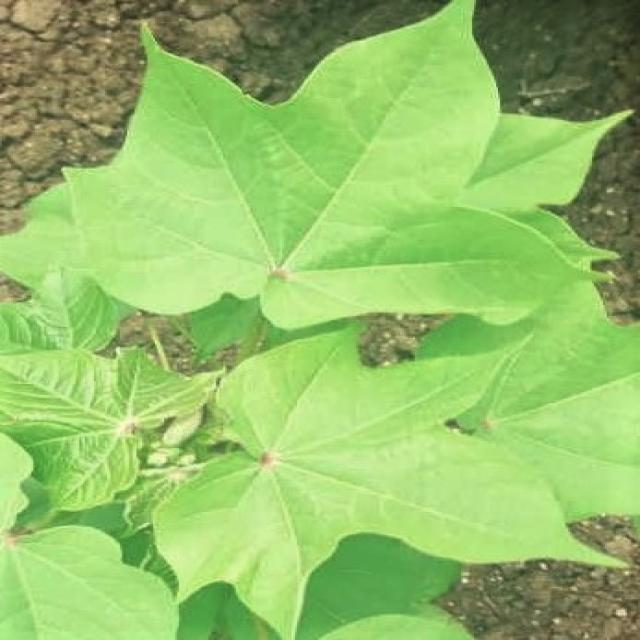Healthy Leaf: (125, 130, 482, 640)
